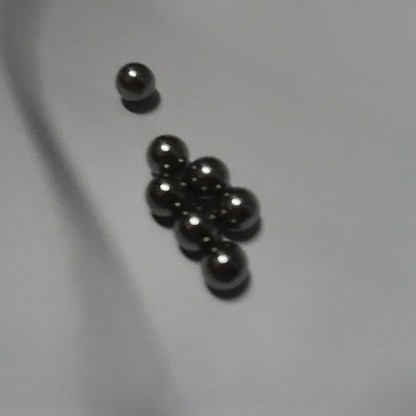ironball: (212, 184, 264, 232), (171, 206, 224, 253), (204, 241, 251, 292), (141, 173, 185, 222), (111, 60, 160, 102), (145, 130, 189, 176), (187, 155, 226, 201)
